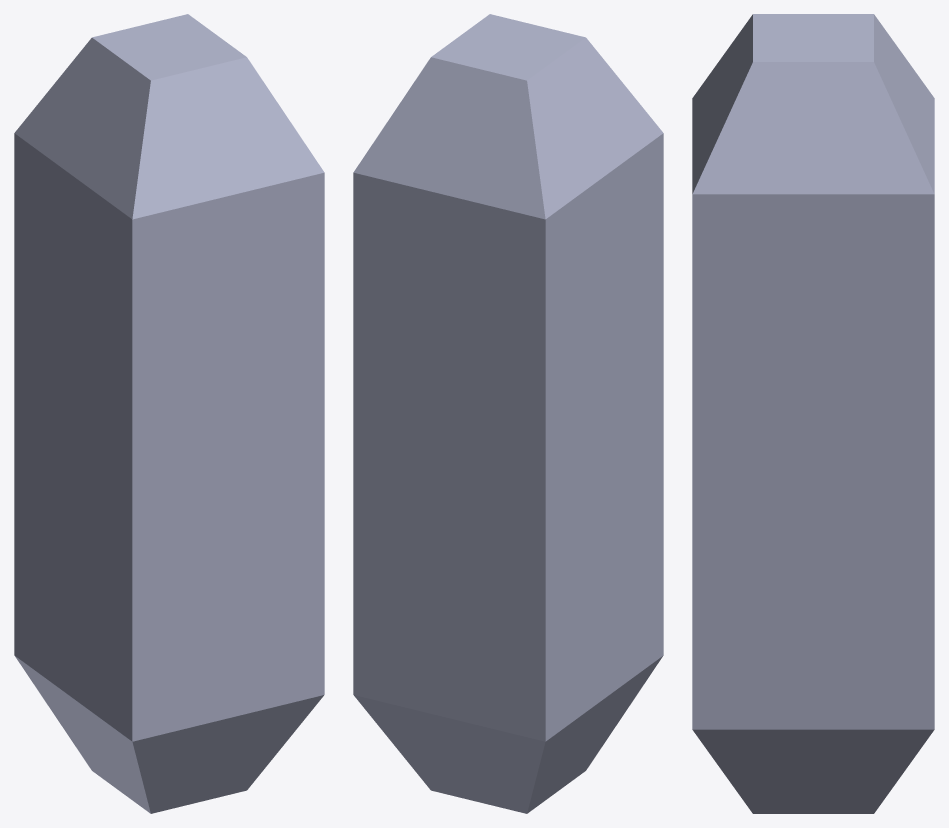
Rendered from Bandit2UpperLeg.fbx.
3 renders of one model, left to right at view 1: azimuth 30°, elevation 25°; view 2: azimuth 150°, elevation 25°; view 3: azimuth 270°, elevation 25°, orthographic. The views are drawn at different scales.
Parts seen in each view (by area): view 1: Bandit2UpperLeg; view 2: Bandit2UpperLeg; view 3: Bandit2UpperLeg.
Boxes of the visible parts, <box> form: Bandit2UpperLeg: <box>14,14,324,813</box>; Bandit2UpperLeg: <box>353,14,663,813</box>; Bandit2UpperLeg: <box>692,14,934,813</box>.
Bounding box in the file's own units: 0.1568 × 0.5717 × 0.1668.
